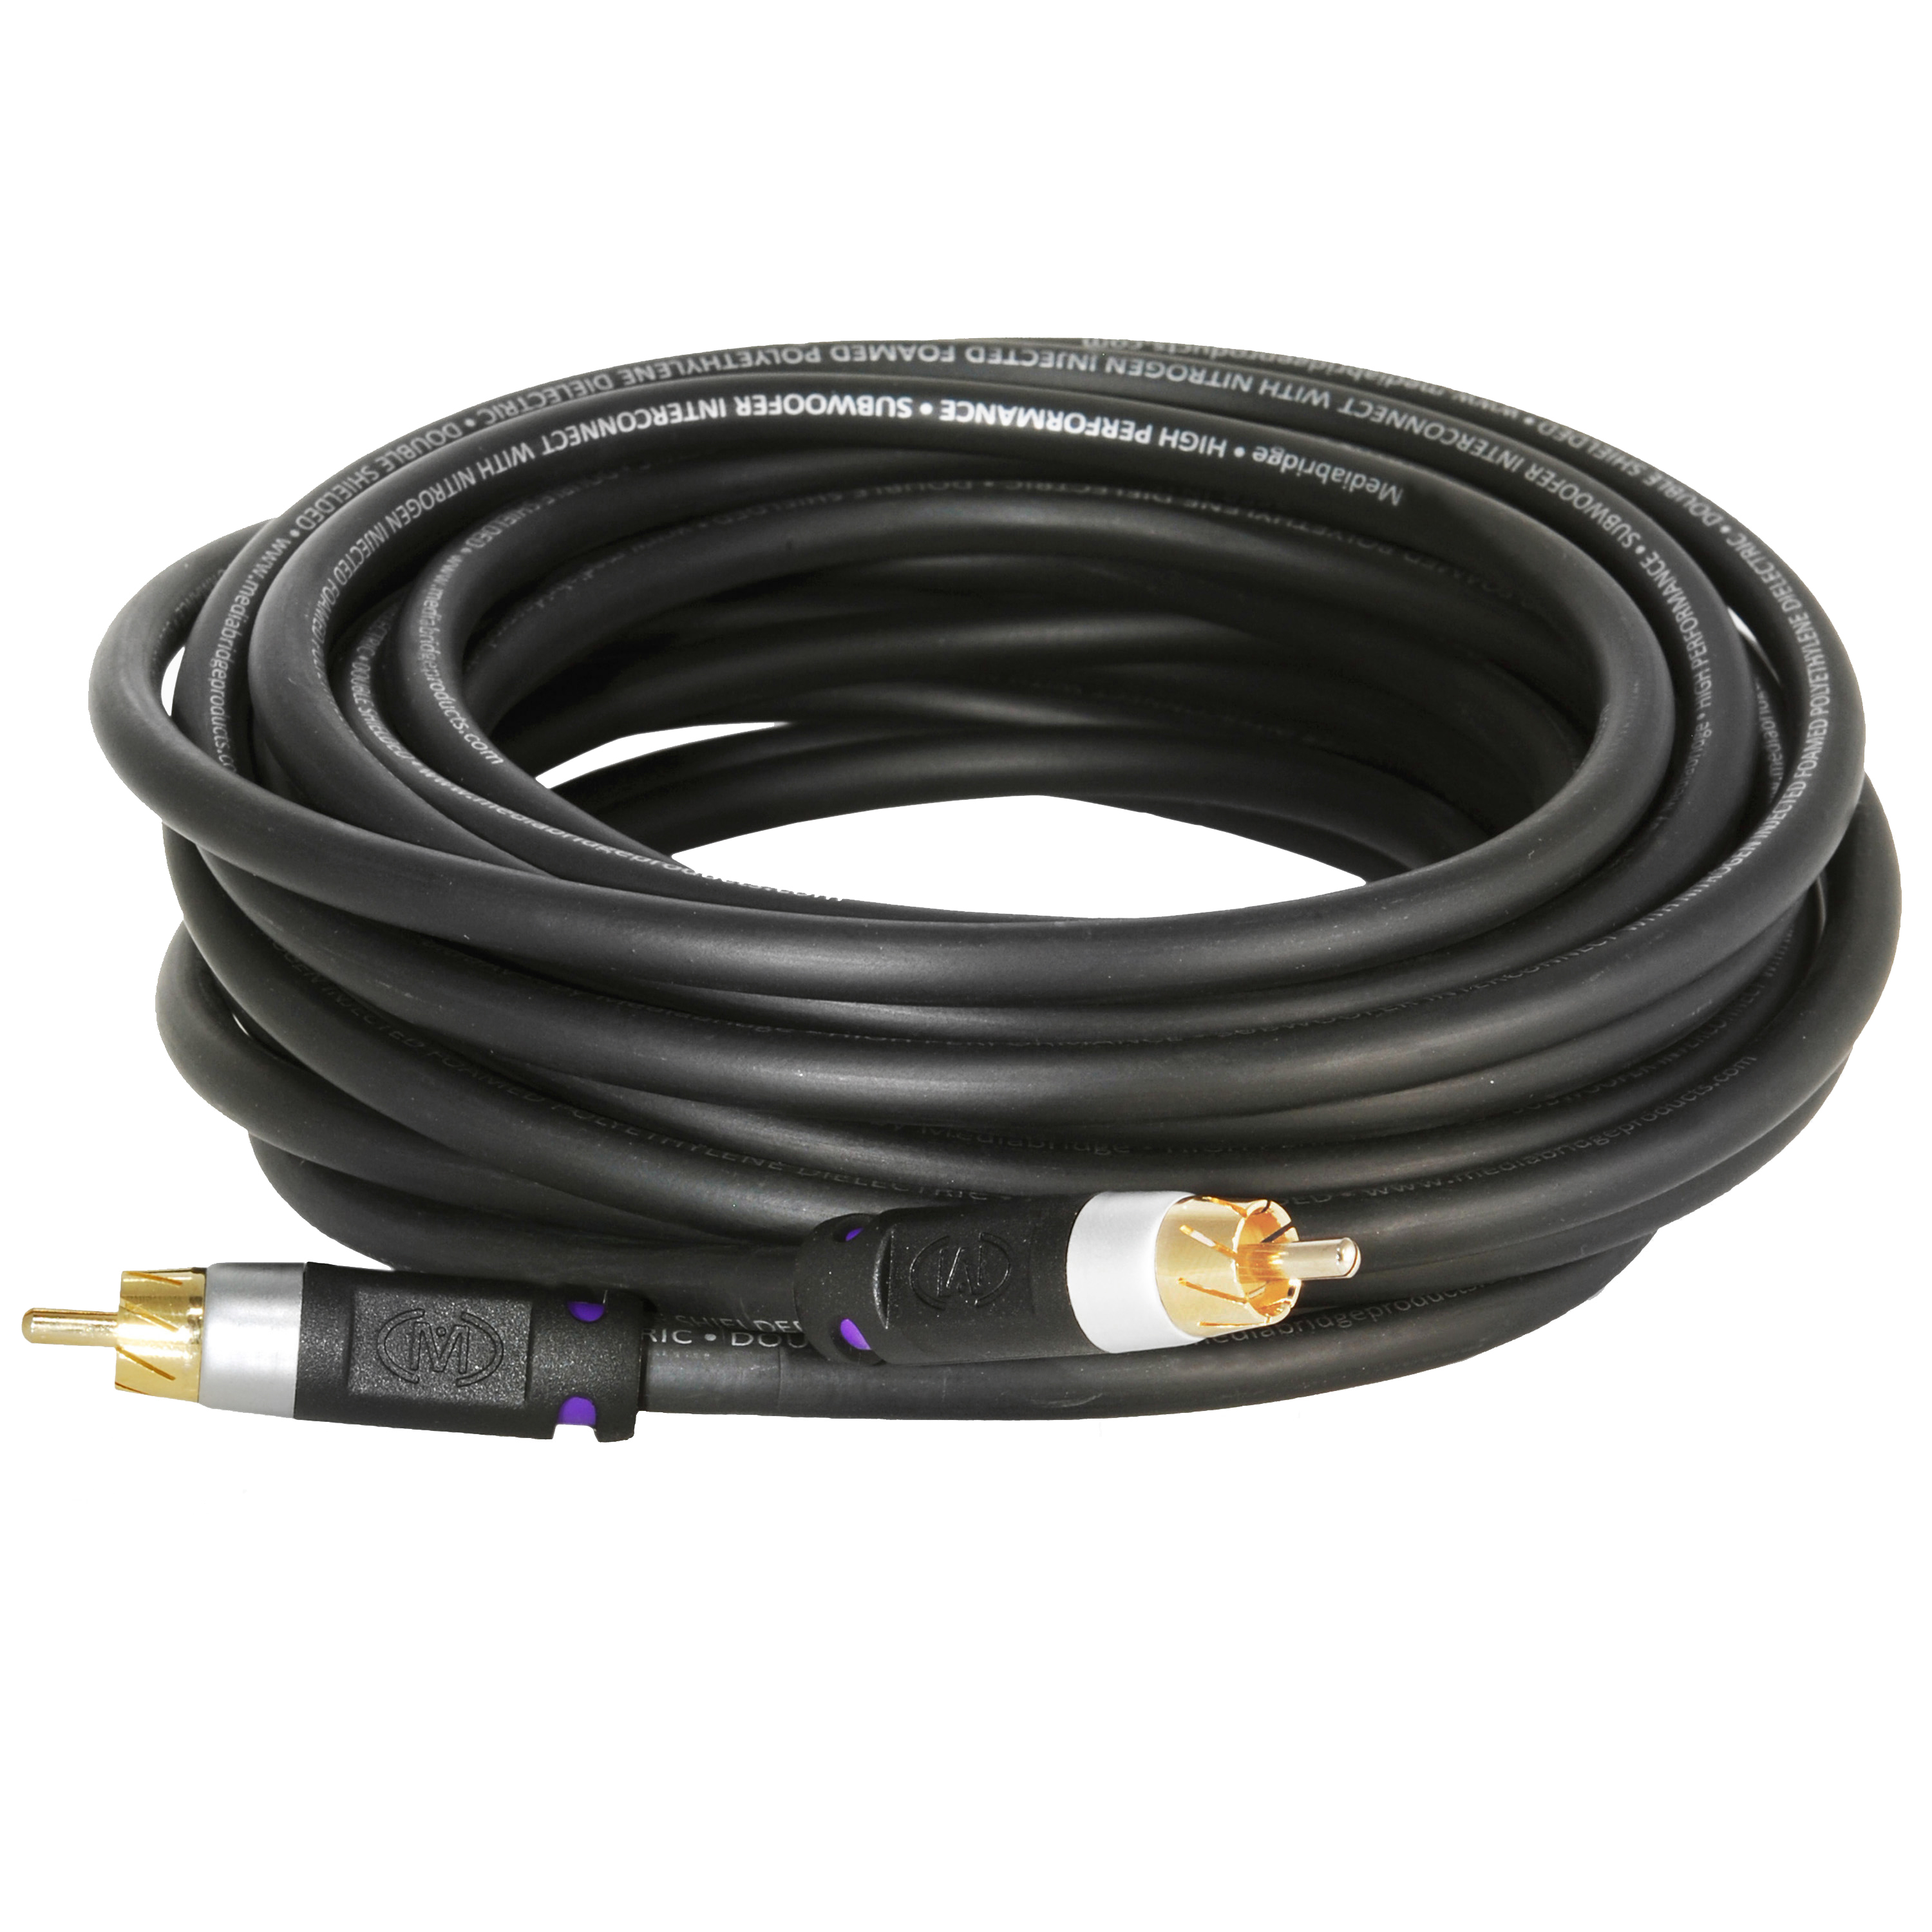Nonrec_Tangler: (27, 271, 1904, 1412)
